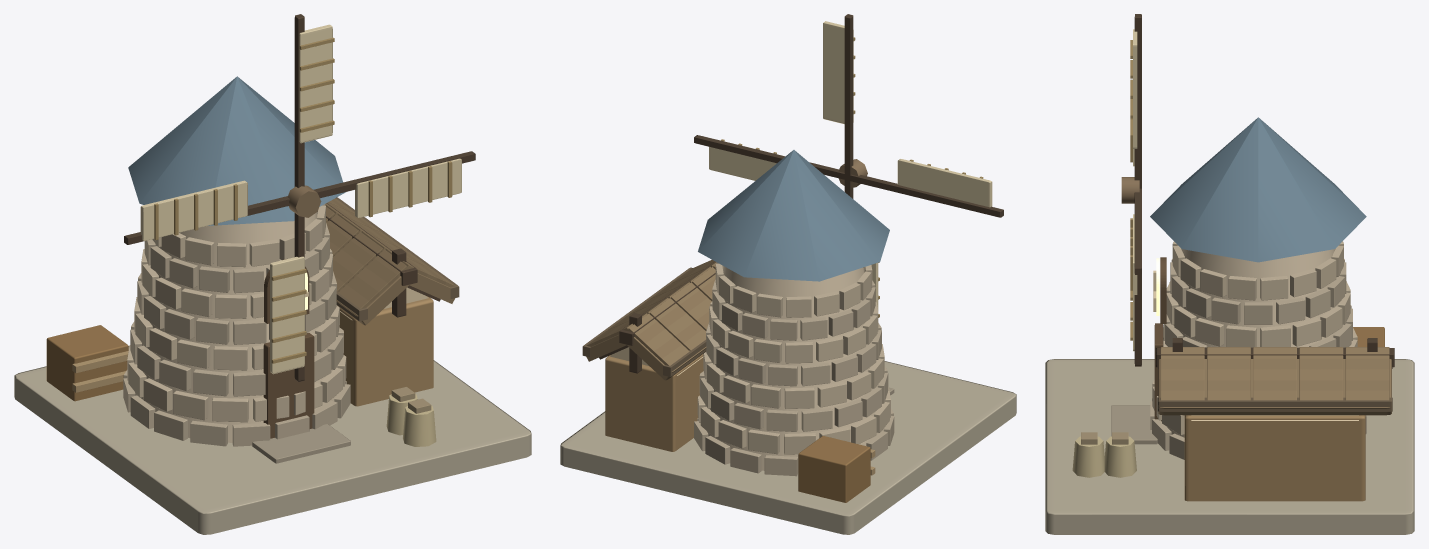
The model's file is mill-2.glb.
The picture shows the model from 3 angles, left to right: view 1: azimuth 30°, elevation 25°; view 2: azimuth 150°, elevation 25°; view 3: azimuth 270°, elevation 25°; orthographic projection. The views are drawn at different scales.
Visible parts, largest first — view 1: mill-2-0, mill-fan; view 2: mill-2-0, mill-fan; view 3: mill-2-0, mill-fan.
Part boxes in pixels (x1,y1,x2,y2): mill-2-0: [14, 76, 531, 534]; mill-fan: [124, 14, 475, 382]; mill-2-0: [560, 150, 1016, 534]; mill-fan: [694, 14, 1003, 317]; mill-2-0: [1045, 117, 1414, 534]; mill-fan: [1121, 14, 1141, 366].
Size of the model in its own units: 3.1 by 3.7 by 2.86.
